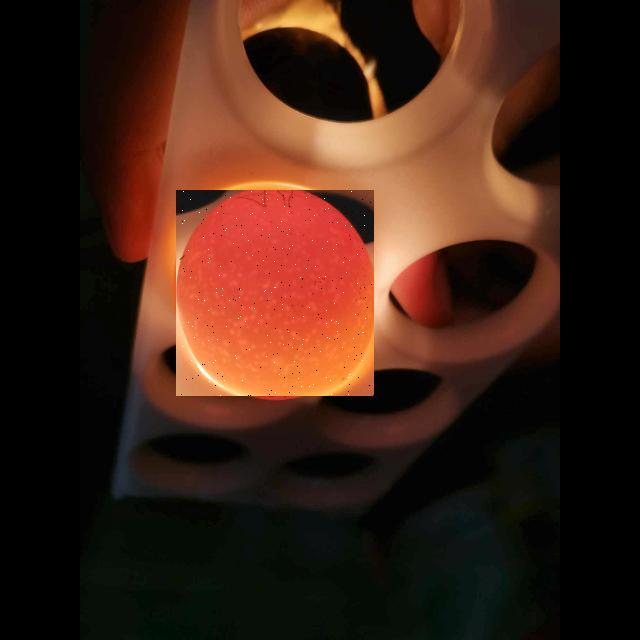Infertile: (176, 190, 374, 396)
